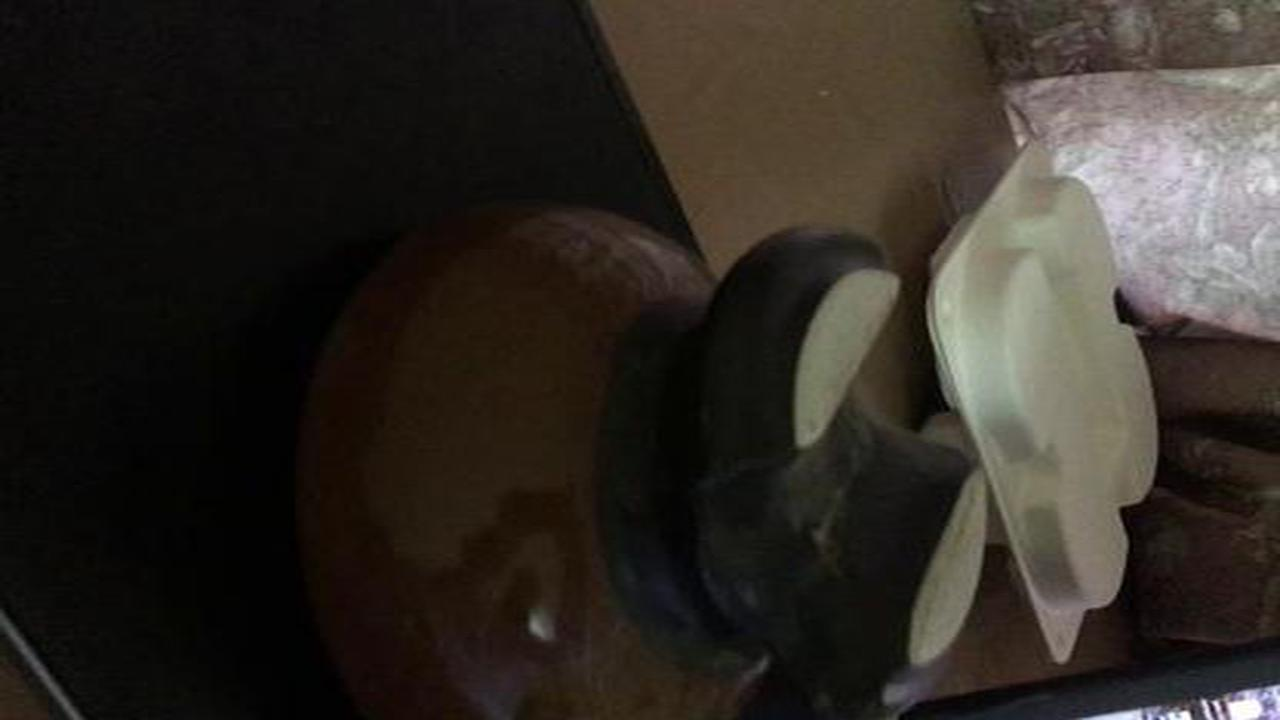insulator_pin: (271, 175, 1010, 719)
